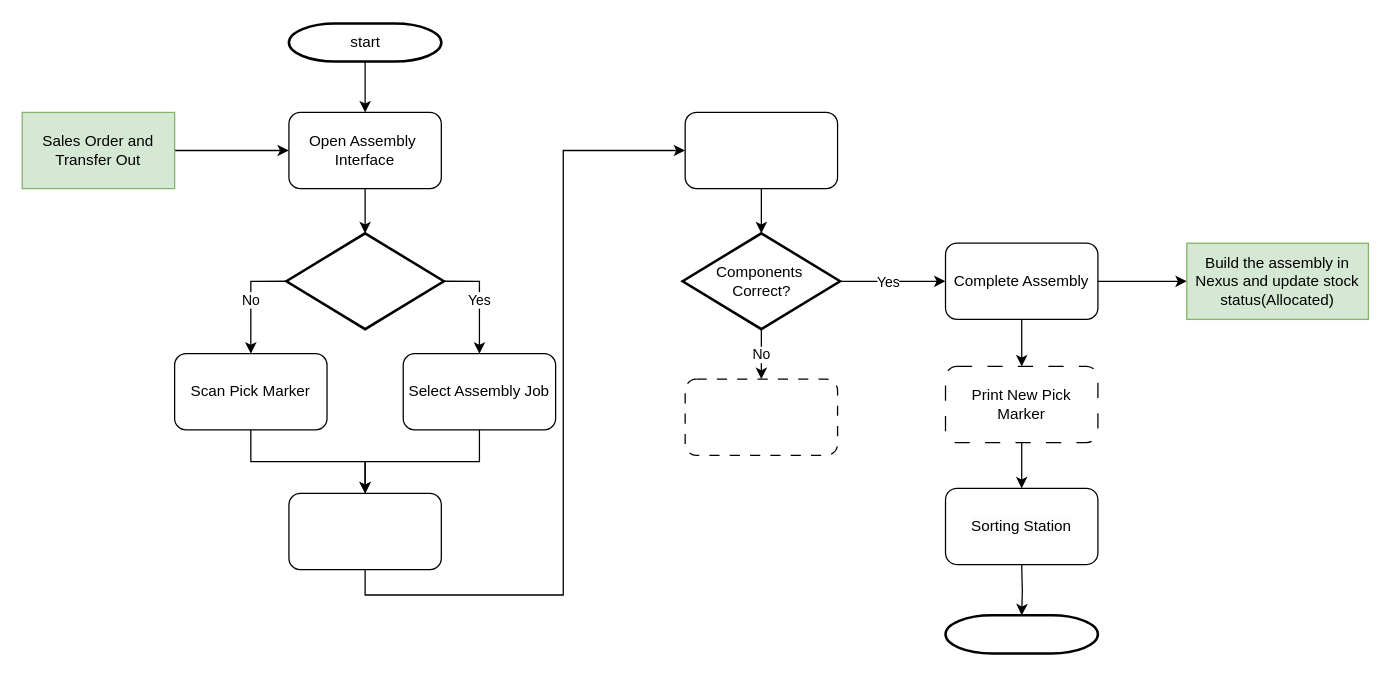
This 1391x676 diagram has some shape labels left out. Each missing label, with the centre of its shape:
end: [1021,633]
Locate all parts: [761,150]
Review Assembly Photo/Instruction: [364,531]
Trigger Picking of Wrong Components: [761,416]
Unfinished Assembly?: [364,280]
